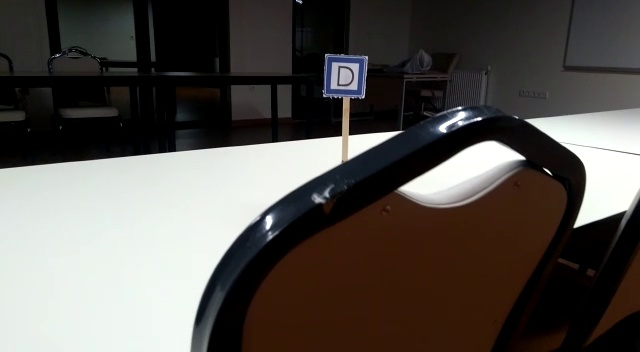durak: (323, 55, 368, 97)
